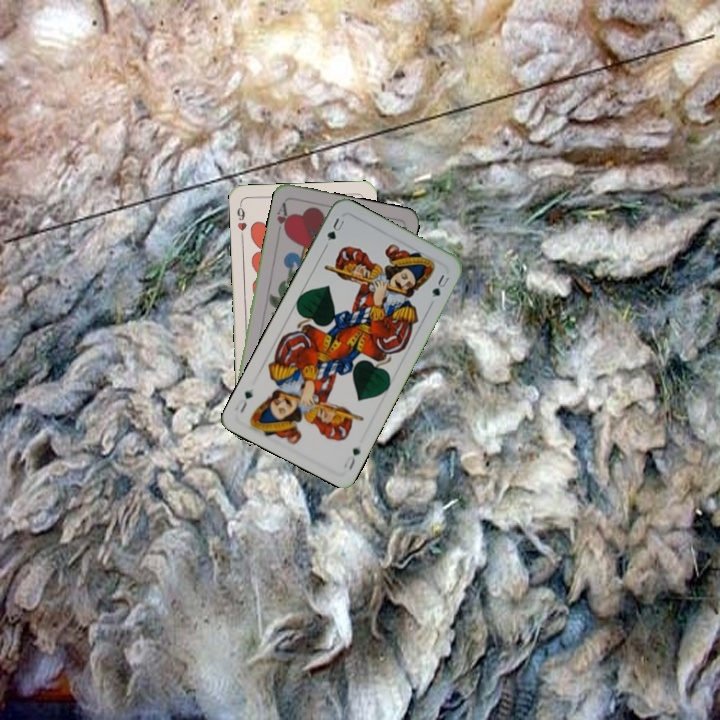GU: (323, 214, 347, 244), (340, 444, 363, 473)
H9: (233, 200, 249, 240)
HA: (272, 198, 292, 238)
